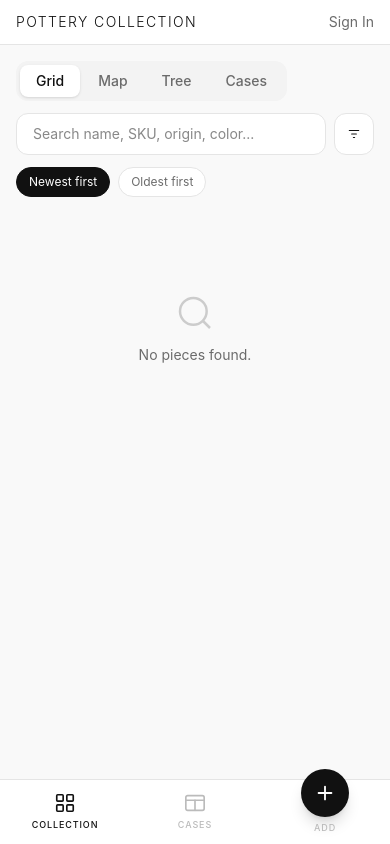
Test: HomePage › closes the mobile filter sheet via backdrop, close button, and done
Expected: the text "No pieces found." is shown, top-left (139, 345), bottom-right (251, 365)
What coordinates should you click on to do the following:
click the button "Filters"
I would click on:
 (354, 134)
Its box is top-left (334, 113), bottom-right (374, 155).
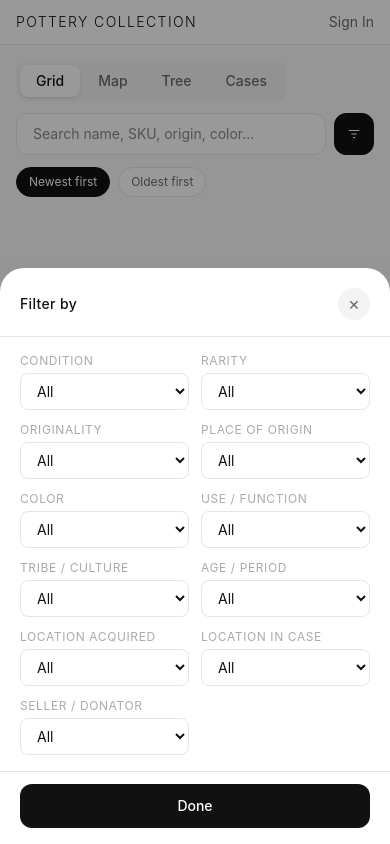
What coordinates should you click on to do the following:
click the element with class "inset-0" in the row of "Rarity"
I would click on:
 (195, 51)
Its box is top-left (0, 0), bottom-right (389, 843).
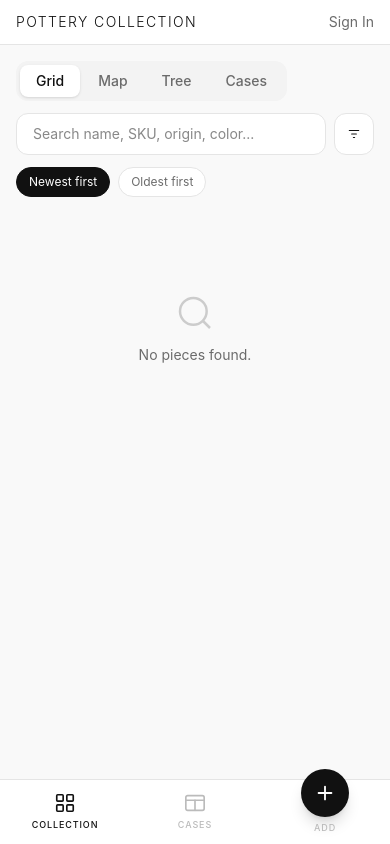
Result: the text "Filter by" is gone
What coordinates should you click on to do the following:
click the button "Filters"
I would click on:
 (354, 134)
Its box is top-left (334, 113), bottom-right (374, 155).
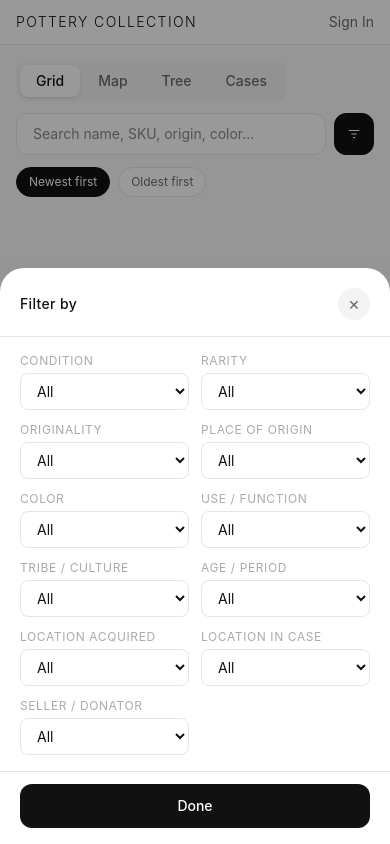
What coordinates should you click on to do the following:
click the button "×"
I would click on:
 (354, 304)
Its box is top-left (338, 288), bottom-right (370, 320).
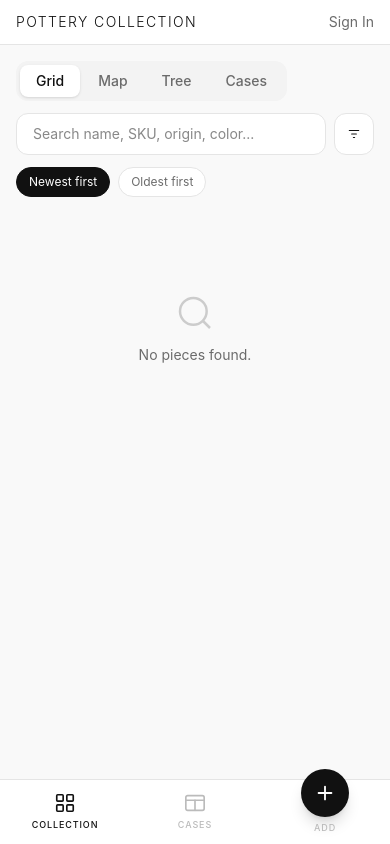
Result: the text "Filter by" is gone
What coordinates should you click on to do the following:
click the button "Filters"
I would click on:
 (354, 134)
Its box is top-left (334, 113), bottom-right (374, 155).
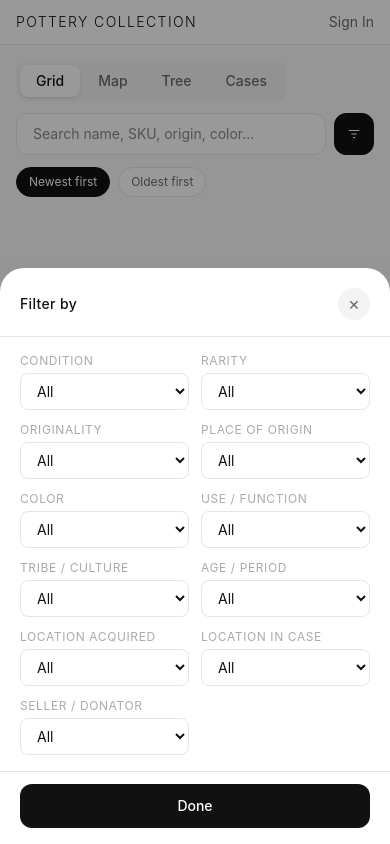
What coordinates should you click on to do the following:
click the button "Done"
I would click on:
 (195, 806)
Its box is top-left (20, 784), bottom-right (370, 828).
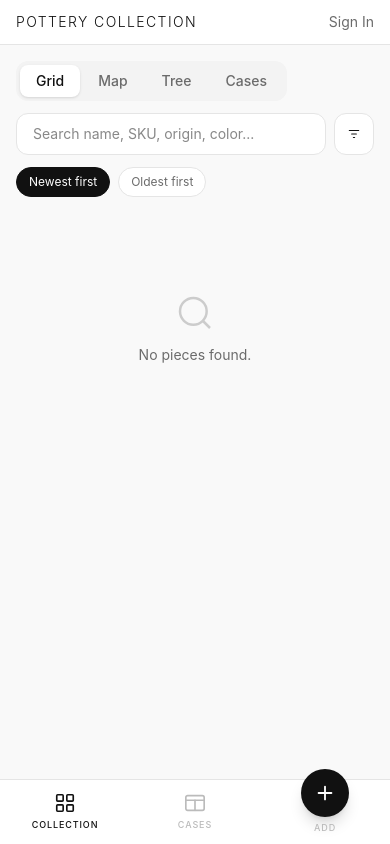
Result: the text "Filter by" is gone
